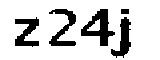2: (47, 6, 77, 48)
4: (81, 8, 117, 47)
j: (113, 7, 136, 60)
z: (9, 16, 41, 50)
